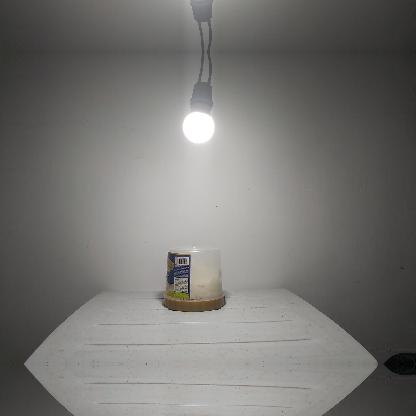Lady-s-Choice: (163, 244, 225, 312)
